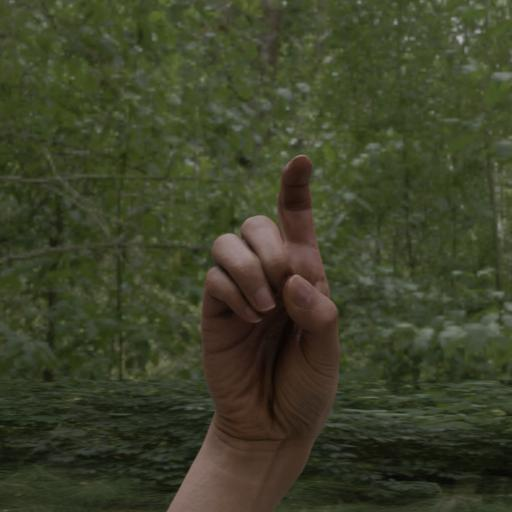X: (173, 147, 352, 471)
